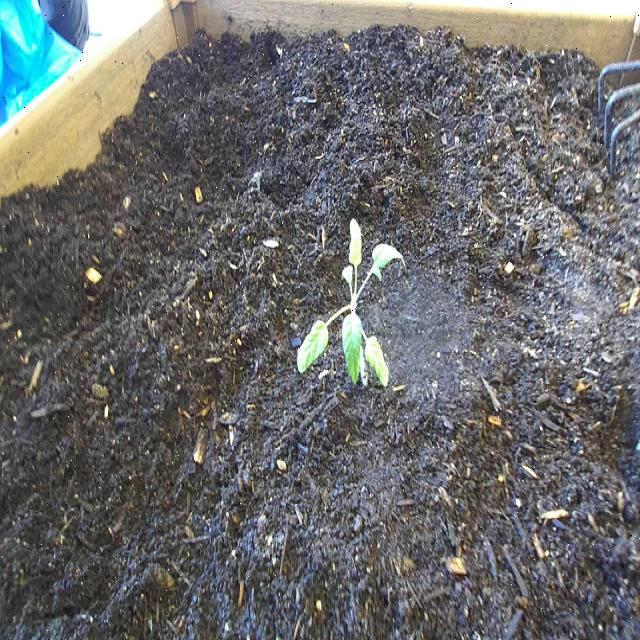Healthy: (293, 203, 412, 412)
